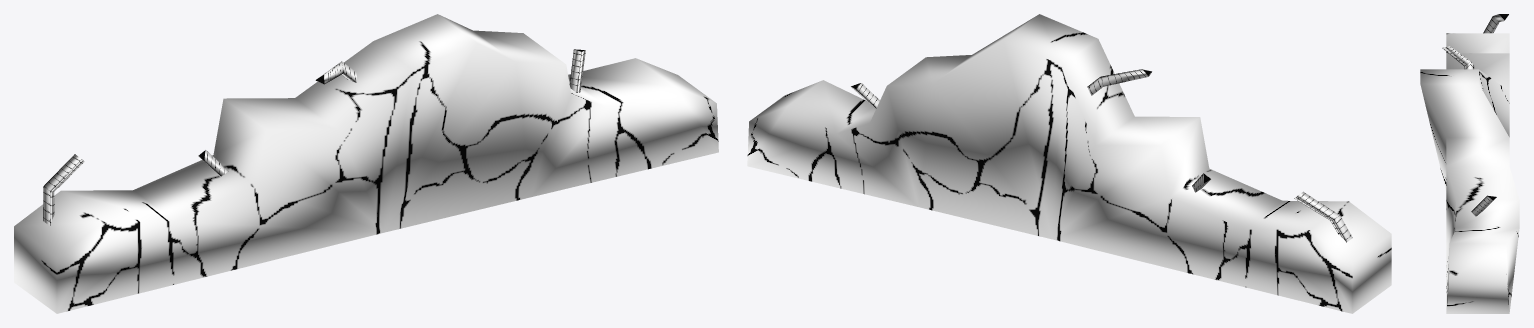
File: Building_02_03.fbx
3 renders of one model, left to right at view 1: azimuth 30°, elevation 25°; view 2: azimuth 150°, elevation 25°; view 3: azimuth 270°, elevation 25°, orthographic. The views are drawn at different scales.
Parts seen in each view (by area): view 1: Building_02_03; view 2: Building_02_03; view 3: Building_02_03.
Part boxes in pixels (bbox=[...]): Building_02_03: bbox=[14, 14, 718, 313]; Building_02_03: bbox=[747, 14, 1391, 313]; Building_02_03: bbox=[1420, 14, 1519, 313].
Bounding box in the file's own units: 9.42 × 2.52 × 1.66.
